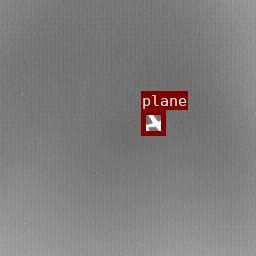plane: (141, 110, 165, 135)
